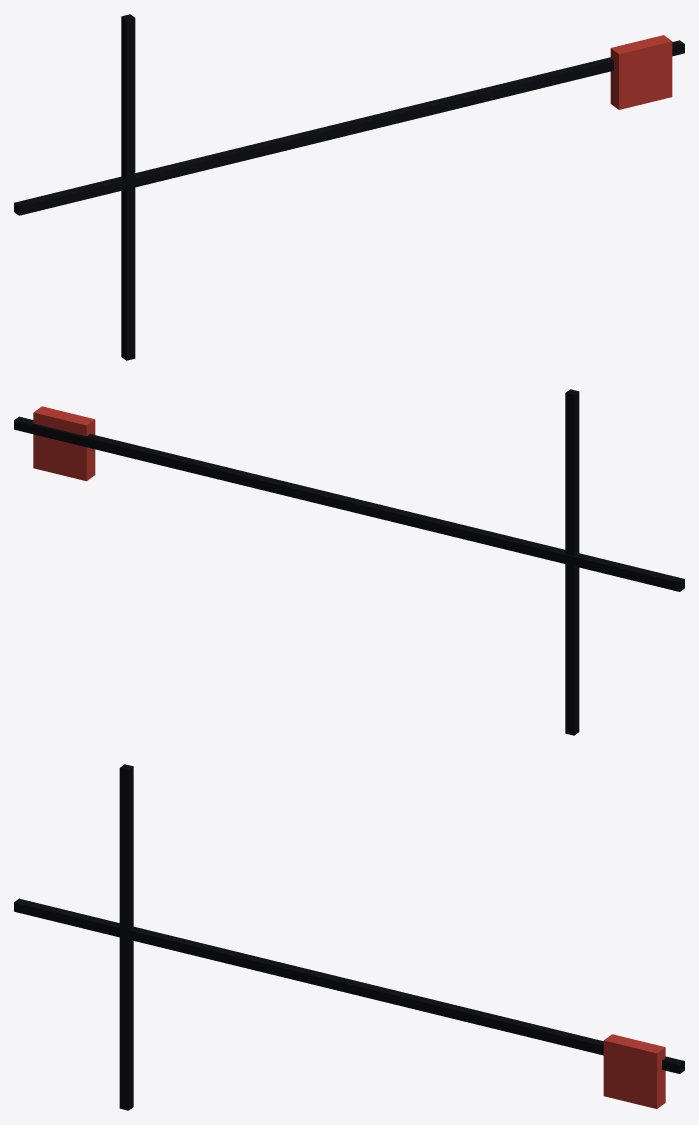
Rendered from door.chainlink_gate.glb.
3 renders of one model, top to bottom at view 1: azimuth 30°, elevation 25°; view 2: azimuth 150°, elevation 25°; view 3: azimuth 330°, elevation 25°, orthographic.
Visible parts, largest first — view 1: mesh_hint_a, mesh_hint_b, lock_box; view 2: mesh_hint_a, mesh_hint_b, lock_box; view 3: mesh_hint_a, mesh_hint_b, lock_box.
Part boxes in pixels (x1,y1,x2,y2): mesh_hint_a: (14, 40, 684, 215); mesh_hint_b: (121, 14, 135, 360); lock_box: (610, 35, 672, 109); mesh_hint_a: (14, 416, 684, 591); mesh_hint_b: (565, 389, 579, 735); lock_box: (33, 406, 95, 481); mesh_hint_a: (14, 898, 684, 1073); mesh_hint_b: (119, 764, 133, 1110); lock_box: (603, 1034, 665, 1108).
Size of what is drawn, in the model's own units: 4.5 by 2.2 by 0.12.
